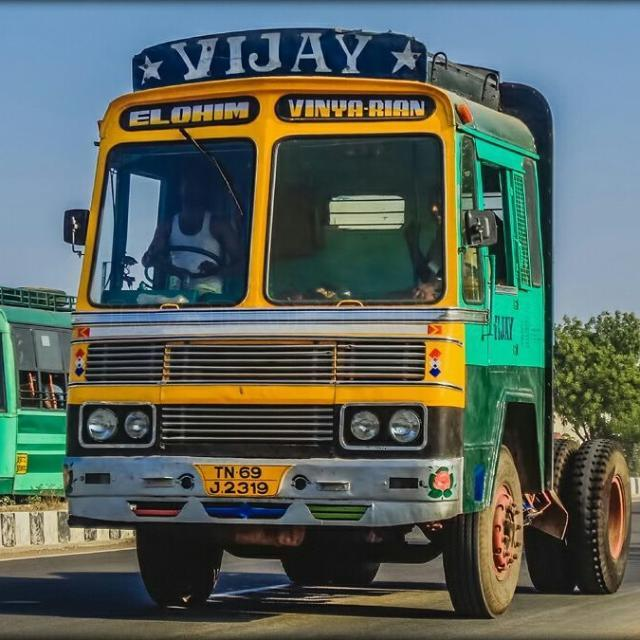Bus: (0, 283, 66, 508)
Truck: (55, 25, 636, 624)
